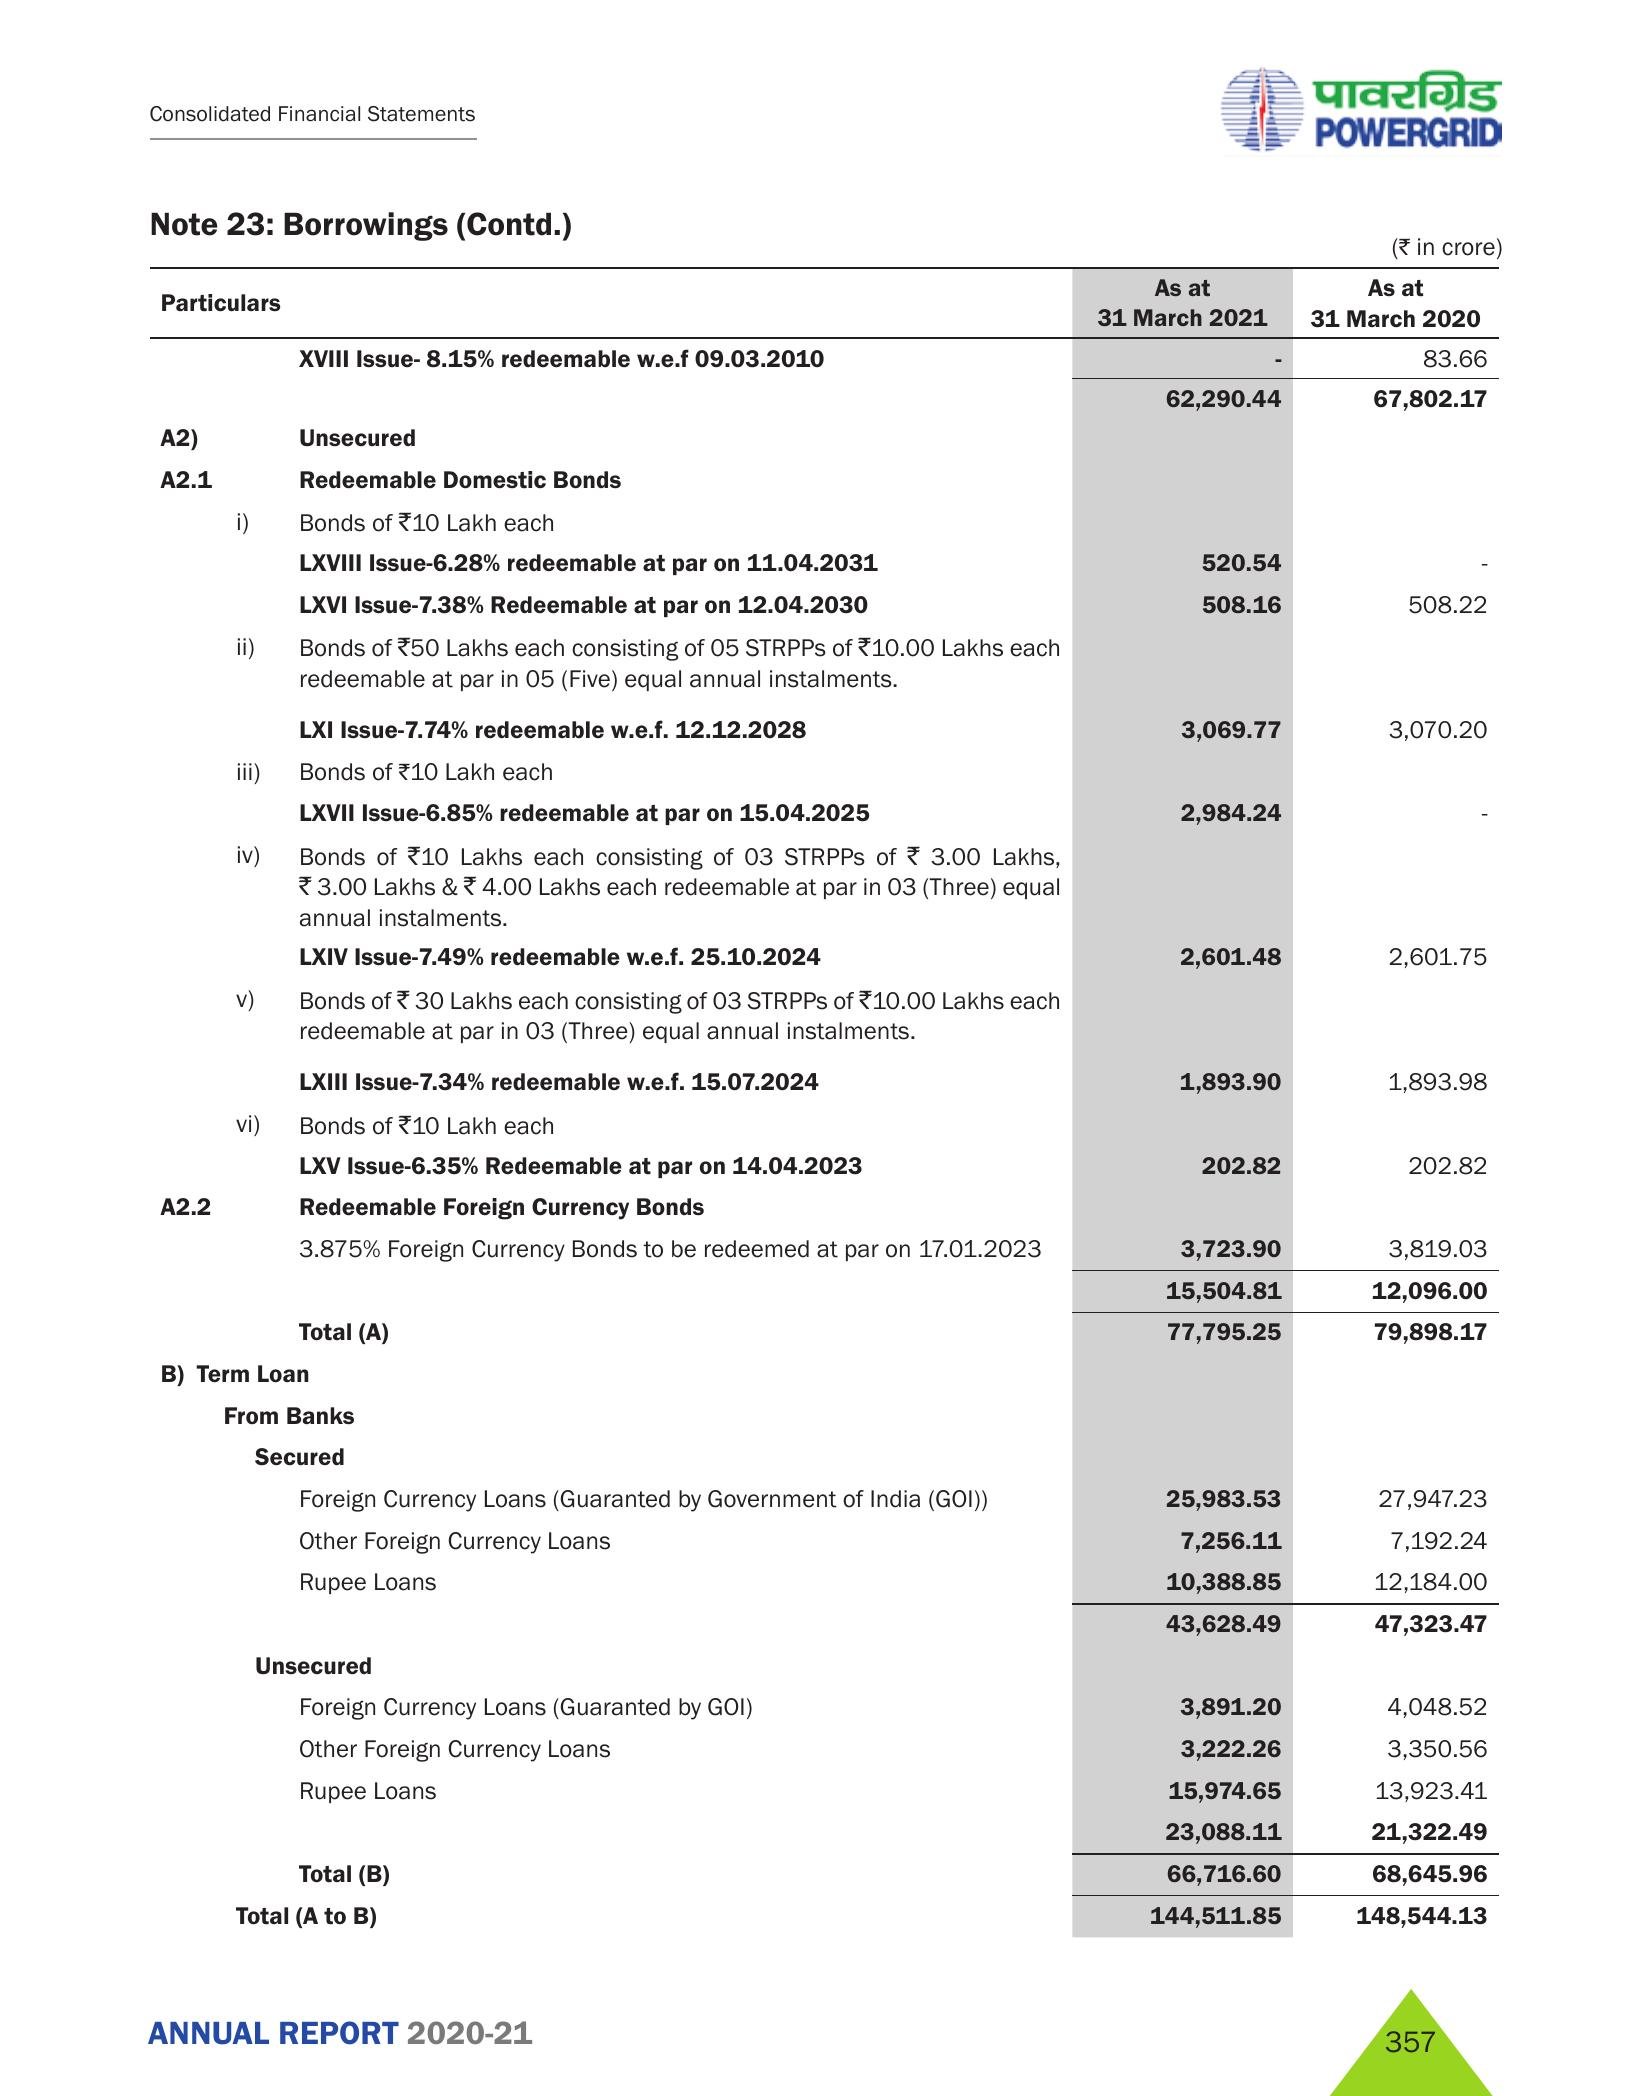Footer: (0, 1953, 1650, 2096)
Header: (0, 0, 1650, 163)
Table: (105, 274, 1507, 1933)
